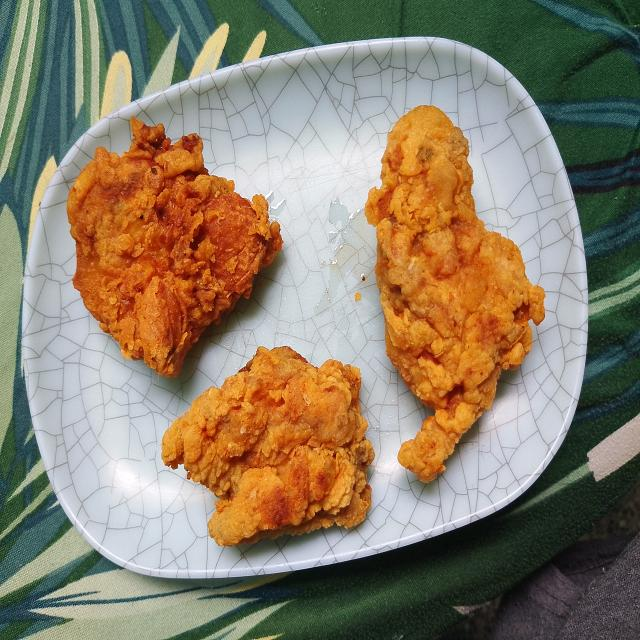Chicken -Fried Chicken-: (365, 103, 540, 480), (60, 115, 277, 375), (162, 340, 374, 556)
